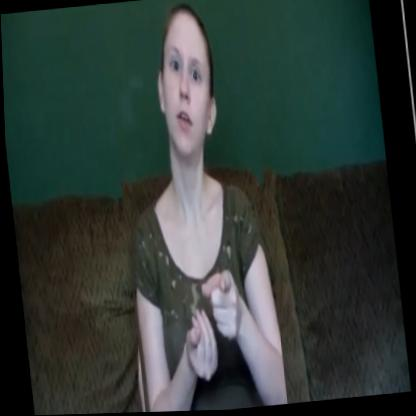HowAreYou: (101, 0, 284, 414)
